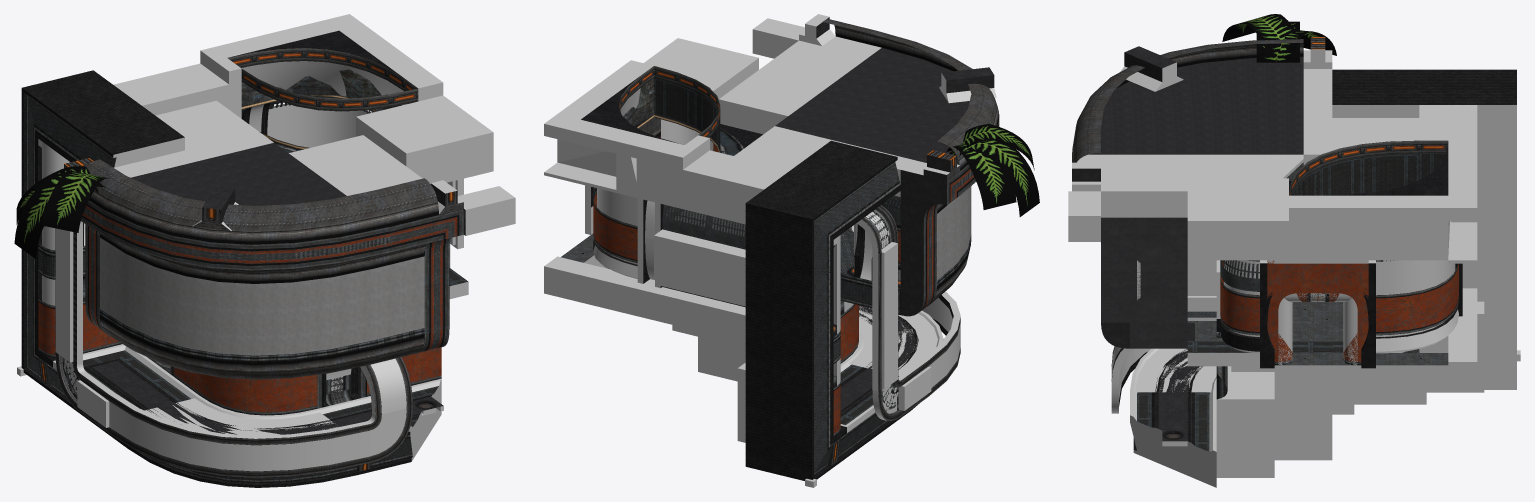
Rendered from sky-walk-base-orange.obj.
3 views of the same model, side by side, from view 1: azimuth 30°, elevation 25°; view 2: azimuth 150°, elevation 25°; view 3: azimuth 270°, elevation 25° (orthographic). The views are drawn at different scales.
Visible parts, largest first — view 1: entity0_patch545, entity0_patch523, entity0_brush253, entity0_patch682, entity0_brush200, entity0_patch369, entity0_brush46, entity0_patch525, entity0_patch324, entity0_brush206, entity0_patch566, entity0_patch362 (+58 smaller); view 2: entity0_brush211, entity0_patch682, entity0_brush46, entity0_brush200, entity0_brush206, entity0_brush205, entity0_brush210, entity0_brush107, entity0_brush253, entity0_brush63, entity0_patch523, entity0_brush163 (+45 smaller); view 3: entity0_patch682, entity0_brush33, entity0_brush253, entity0_brush210, entity0_brush200, entity0_brush180, entity0_brush118, entity0_brush46, entity0_brush125, entity0_patch518, entity0_brush252, entity0_patch523 (+62 smaller).
Boxes of the visible parts, box(x1,y1,x2,y2) form: entity0_patch545: box(100, 237, 374, 355); entity0_patch523: box(85, 159, 389, 244); entity0_brush253: box(356, 95, 493, 183); entity0_patch682: box(131, 143, 346, 205); entity0_brush200: box(22, 70, 184, 157); entity0_patch369: box(109, 401, 369, 471); entity0_brush46: box(289, 135, 463, 233); entity0_patch525: box(100, 316, 374, 379); entity0_patch324: box(82, 205, 389, 264); entity0_brush206: box(113, 63, 241, 118); entity0_patch566: box(199, 374, 317, 415); entity0_patch362: box(374, 256, 424, 339); entity0_brush211: box(745, 203, 813, 480); entity0_patch682: box(775, 48, 969, 164); entity0_brush46: box(719, 36, 881, 120); entity0_brush200: box(746, 140, 897, 220); entity0_brush206: box(671, 150, 790, 221); entity0_brush205: box(567, 275, 836, 363); entity0_brush210: box(814, 223, 830, 472); entity0_brush107: box(544, 114, 696, 169); entity0_brush253: box(643, 38, 758, 99); entity0_brush63: box(654, 238, 745, 294); entity0_patch523: box(869, 30, 999, 170); entity0_brush163: box(544, 256, 745, 318); entity0_patch682: box(1089, 57, 1303, 154); entity0_brush33: box(1101, 217, 1187, 322); entity0_brush253: box(1187, 178, 1288, 260); entity0_brush210: box(1484, 108, 1513, 386); entity0_brush200: box(1332, 69, 1516, 107); entity0_brush180: box(1274, 353, 1477, 391); entity0_brush118: box(1216, 366, 1274, 477); entity0_brush46: box(1077, 154, 1274, 191); entity0_brush125: box(1231, 366, 1332, 460); entity0_patch518: box(1291, 153, 1419, 195); entity0_brush252: box(1318, 195, 1448, 220); entity0_patch523: box(1072, 39, 1303, 146).
Bounding box in the file's own units: 1104 × 752 × 1000.
